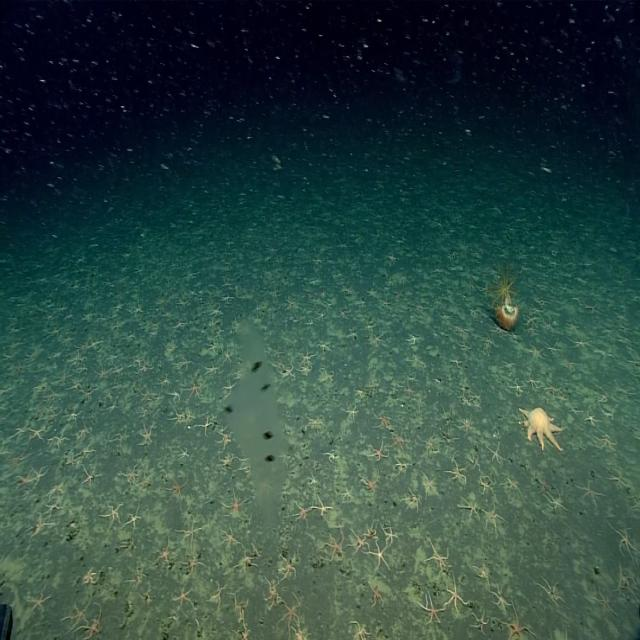brittle-stars: (613, 525, 639, 559), (503, 609, 531, 640), (26, 583, 52, 614), (280, 597, 302, 633), (205, 578, 228, 612), (445, 580, 467, 614), (420, 591, 444, 622), (178, 517, 203, 546), (116, 528, 137, 561), (540, 579, 564, 607), (427, 543, 449, 573), (363, 514, 385, 544), (323, 531, 344, 562), (83, 609, 104, 640), (591, 589, 616, 615), (578, 480, 602, 506), (224, 491, 248, 517), (619, 566, 638, 598), (125, 562, 148, 588), (438, 423, 461, 449), (68, 600, 90, 626), (434, 398, 455, 425), (484, 504, 504, 531), (371, 540, 390, 568), (459, 496, 480, 521), (157, 539, 175, 568), (79, 382, 100, 406), (136, 584, 155, 610), (279, 554, 297, 581), (172, 586, 194, 608), (26, 514, 48, 536), (182, 552, 203, 575), (350, 528, 370, 552), (102, 504, 122, 528), (491, 586, 511, 610), (266, 579, 282, 608), (166, 478, 187, 500), (448, 459, 468, 482), (238, 548, 256, 572), (471, 610, 488, 635), (544, 489, 564, 510), (404, 489, 423, 511), (116, 329, 137, 348), (126, 508, 144, 530), (220, 526, 238, 548), (83, 464, 101, 486), (175, 291, 193, 313), (389, 428, 406, 451), (422, 473, 438, 497), (369, 442, 388, 462), (456, 416, 475, 436), (350, 621, 370, 640), (31, 465, 49, 486), (360, 474, 378, 495), (64, 375, 82, 396), (370, 584, 385, 609), (313, 496, 332, 515), (488, 444, 505, 465), (343, 324, 360, 345), (608, 470, 626, 489), (28, 424, 47, 442), (51, 432, 70, 450), (46, 499, 65, 517), (382, 524, 398, 545), (234, 597, 250, 618), (292, 502, 310, 520), (49, 484, 67, 502), (550, 628, 577, 640), (600, 406, 618, 424), (593, 390, 611, 408), (568, 400, 586, 418), (594, 345, 614, 361), (140, 423, 154, 445), (392, 456, 409, 474), (598, 435, 616, 452), (437, 306, 455, 323), (186, 382, 202, 401), (84, 567, 100, 586), (532, 292, 551, 308), (528, 344, 545, 361), (307, 416, 325, 432), (376, 413, 392, 431), (76, 422, 91, 441), (137, 474, 152, 493), (126, 464, 140, 484), (236, 624, 253, 640), (198, 416, 213, 434), (217, 429, 232, 447), (525, 373, 540, 391), (140, 384, 155, 402), (568, 337, 586, 352), (79, 443, 94, 461), (476, 563, 490, 582), (424, 434, 436, 456), (218, 453, 234, 469), (481, 334, 497, 350), (57, 369, 72, 386), (11, 423, 26, 440), (17, 473, 32, 490), (586, 410, 600, 428), (238, 455, 252, 473), (291, 626, 309, 640), (582, 301, 600, 315), (116, 428, 130, 446), (506, 478, 521, 494), (302, 312, 314, 332), (397, 268, 411, 285), (386, 248, 399, 266), (543, 342, 559, 356), (345, 406, 359, 422), (302, 348, 316, 364), (320, 367, 334, 383), (171, 409, 185, 425), (90, 337, 104, 353), (66, 407, 80, 423), (560, 357, 576, 371), (481, 477, 494, 494), (206, 360, 220, 375), (408, 333, 423, 347), (178, 354, 192, 369), (547, 380, 562, 394), (168, 388, 182, 403), (47, 386, 61, 401), (74, 361, 88, 376), (70, 352, 85, 366), (94, 364, 107, 380), (164, 342, 177, 358), (464, 304, 480, 317), (468, 453, 480, 470), (368, 376, 380, 393), (508, 331, 525, 343), (280, 364, 294, 378), (450, 355, 464, 369), (81, 309, 95, 323), (544, 318, 558, 332), (512, 379, 525, 394), (139, 405, 151, 421), (222, 380, 234, 396), (454, 324, 470, 336), (220, 291, 234, 304), (300, 362, 313, 376), (324, 450, 337, 464), (210, 306, 224, 319), (138, 360, 151, 374), (411, 353, 424, 367), (458, 341, 472, 354), (530, 305, 544, 318), (46, 409, 59, 423), (537, 478, 549, 493), (631, 492, 640, 512), (222, 349, 233, 365), (416, 391, 427, 407), (216, 322, 227, 338), (566, 320, 579, 333), (177, 320, 190, 333), (321, 342, 334, 355), (272, 345, 284, 359), (178, 447, 190, 461), (66, 454, 78, 468), (628, 356, 640, 370), (414, 302, 428, 314), (343, 486, 354, 501), (406, 382, 416, 398), (112, 300, 124, 313), (208, 342, 219, 356), (526, 315, 540, 326), (316, 310, 328, 322), (380, 296, 392, 308), (285, 298, 297, 310), (251, 314, 263, 326), (373, 334, 385, 346), (526, 324, 538, 336), (308, 475, 319, 488), (460, 393, 471, 406), (107, 350, 118, 363), (160, 376, 171, 389), (134, 303, 144, 317), (221, 278, 232, 290), (235, 368, 246, 380), (340, 308, 350, 321), (394, 288, 404, 301), (114, 363, 124, 376), (184, 412, 193, 426), (364, 321, 375, 332), (323, 300, 334, 311), (470, 390, 480, 402), (366, 286, 376, 298), (356, 296, 366, 308), (64, 310, 74, 322), (164, 309, 174, 320), (459, 382, 468, 394), (559, 393, 569, 403), (270, 288, 280, 298)
